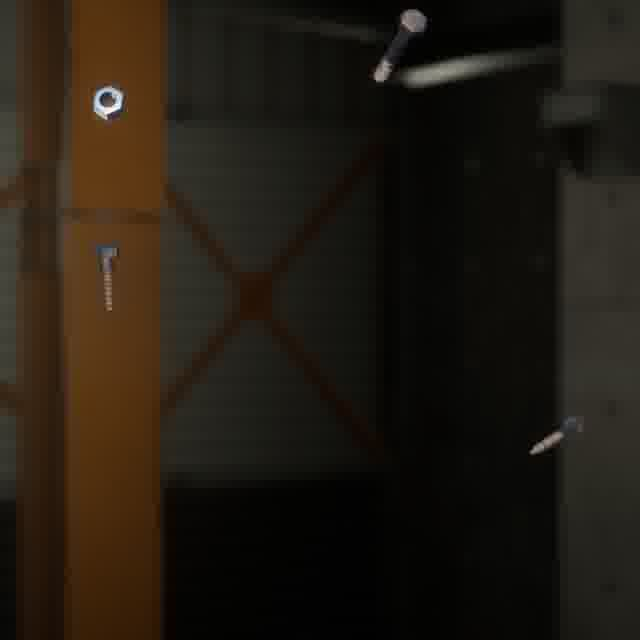bolt: (368, 5, 431, 87), (525, 410, 589, 459), (88, 238, 123, 316)
nut: (88, 80, 129, 124)
